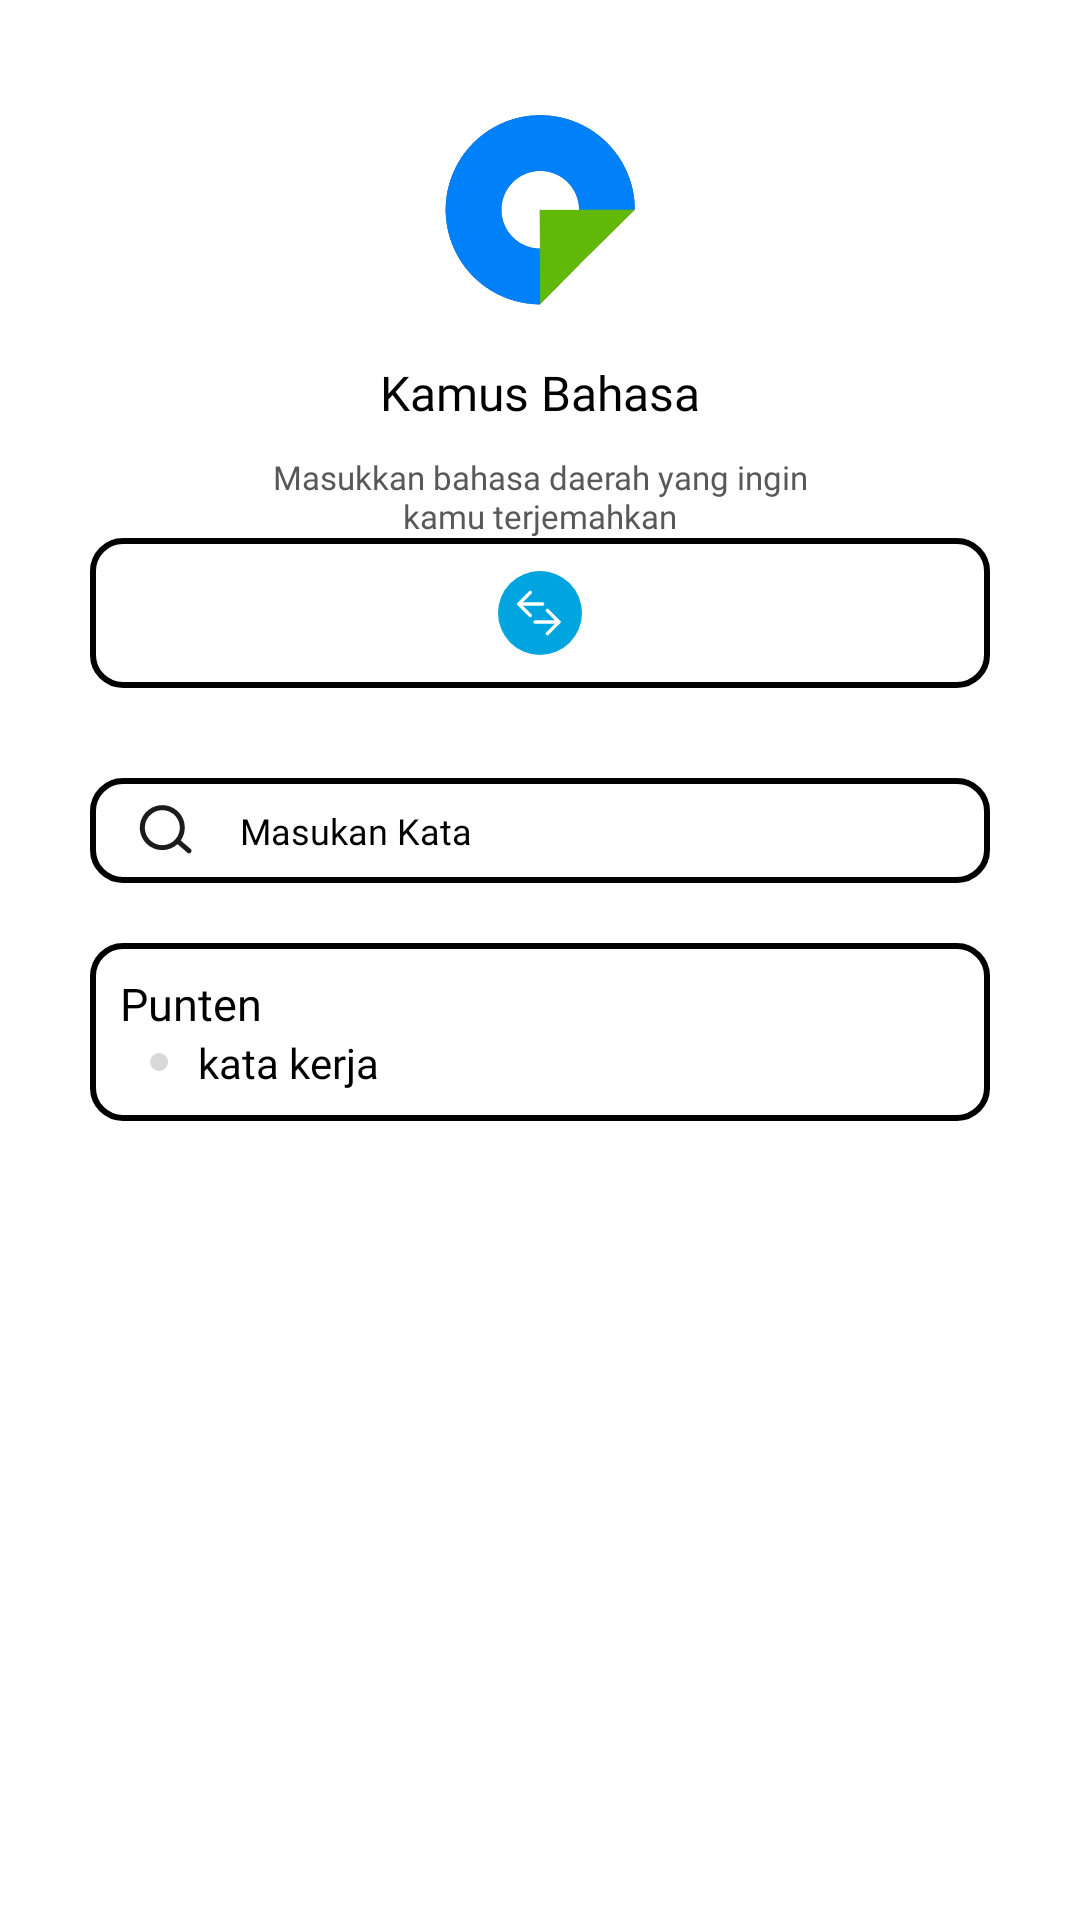

Locate icon controls on the screen. Image size 1080*1920, boxes as (x1, y1, x2, y2).
switchlanguage: (498, 571, 582, 655)
